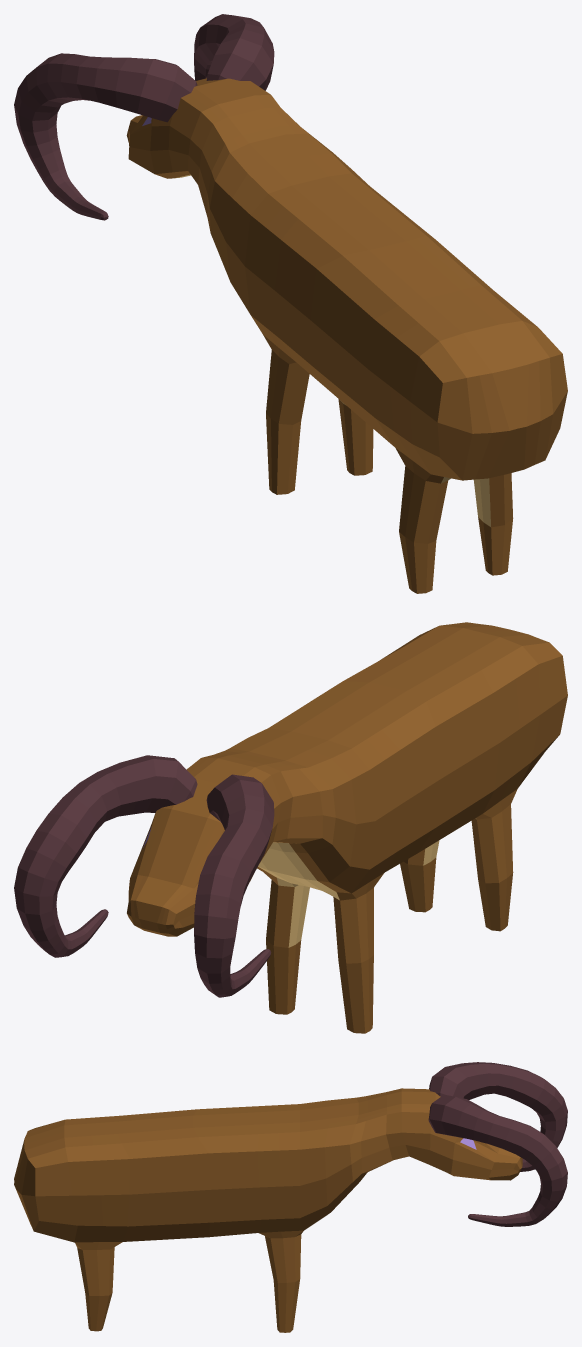
The model's file is WirelessCharger.fbx.
3 renders of one model, top to bottom at view 1: azimuth 30°, elevation 25°; view 2: azimuth 150°, elevation 25°; view 3: azimuth 270°, elevation 25°, orthographic. The views are drawn at different scales.
Visible parts, largest first — view 1: Cube.001; view 2: Cube.001; view 3: Cube.001.
Boxes of the visible parts, x1=… form: Cube.001: x1=14, y1=14, x2=567, y2=593; Cube.001: x1=14, y1=622, x2=567, y2=1033; Cube.001: x1=14, y1=1062, x2=567, y2=1332.
Size of the model in its own units: 285 by 427 by 915.
